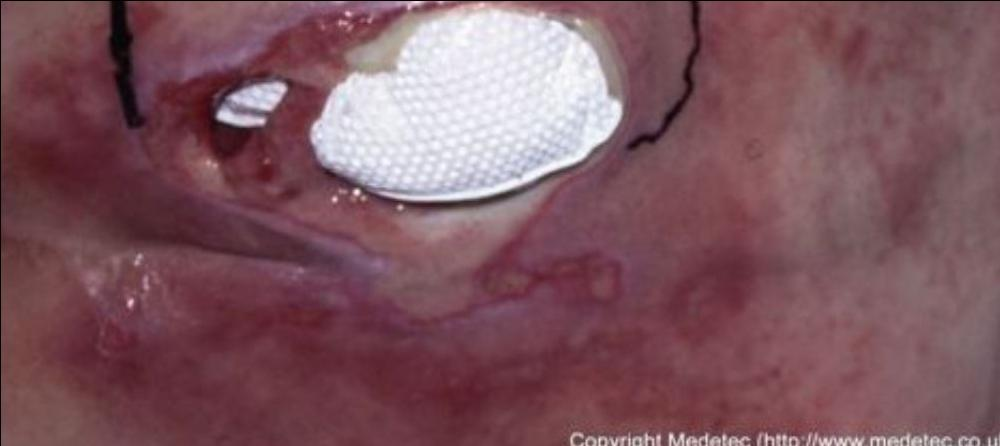Stage3: (159, 255, 653, 412)
